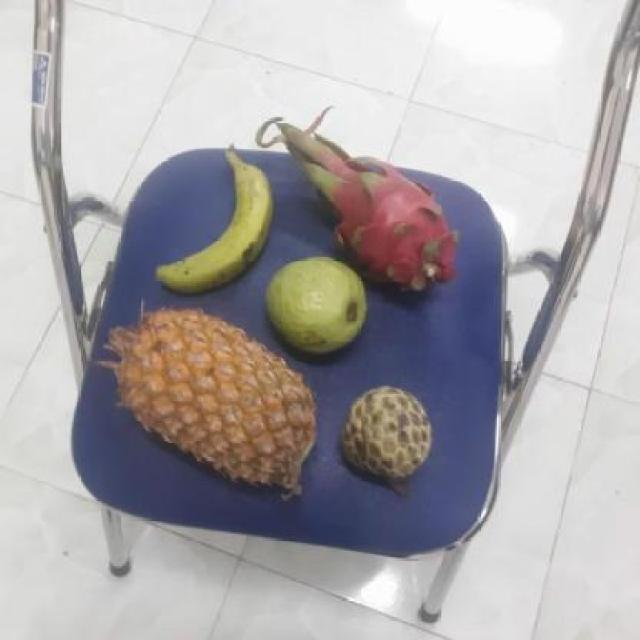banana: (156, 157, 276, 297)
dragon fruit: (296, 150, 449, 295)
guava: (258, 258, 368, 356)
pineapple: (103, 309, 314, 493)
sugar apple: (333, 387, 432, 485)
